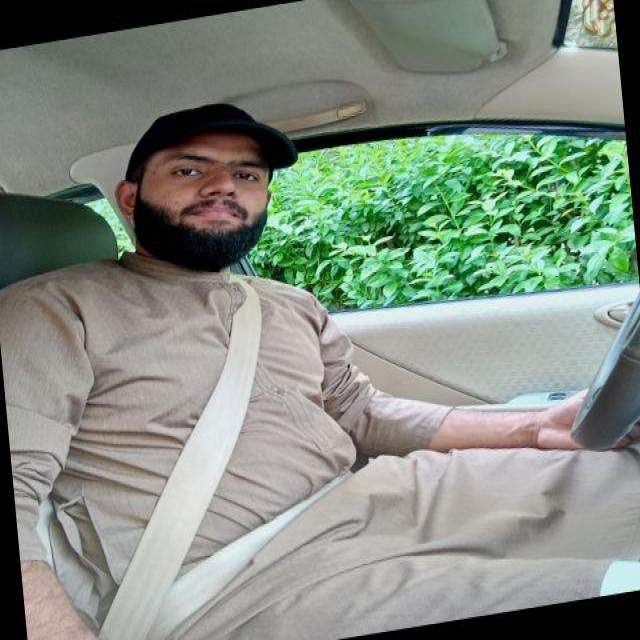seatbelt: (57, 260, 373, 640)
